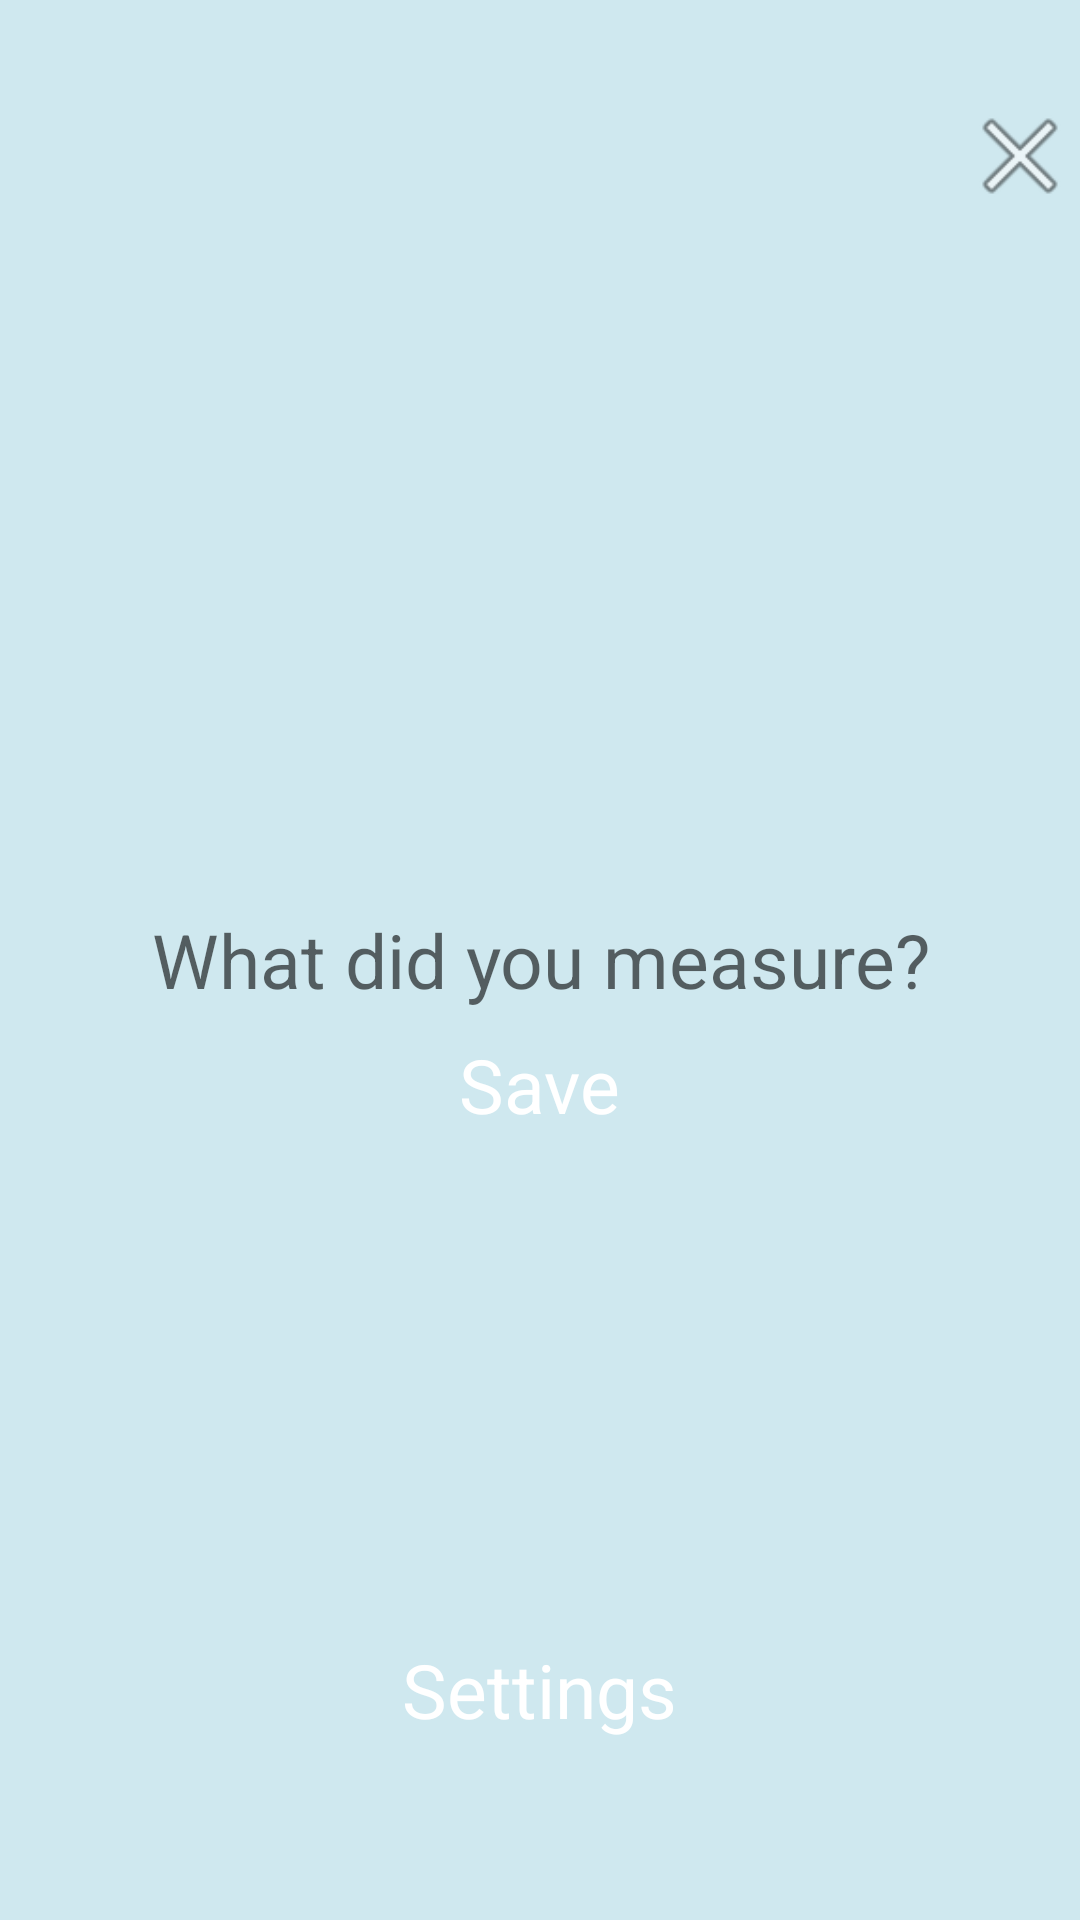

Icon click points for this 1080w x 1920h phone screenshot, format [x,y]:
close clear cancel: [1020,156]
